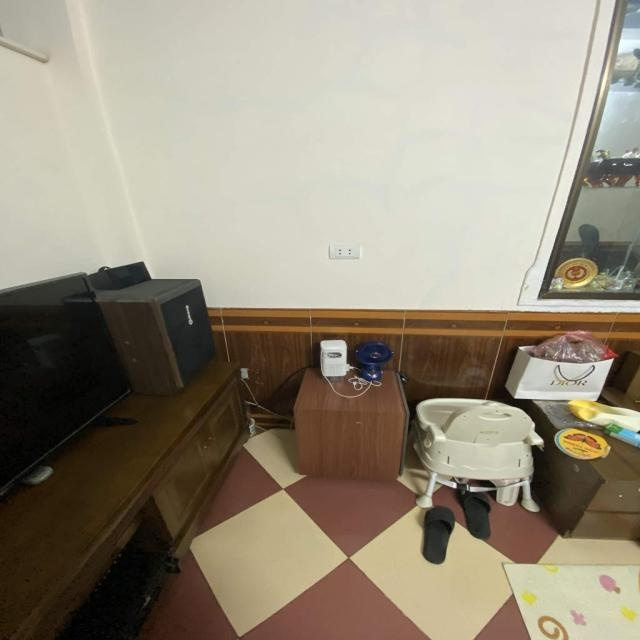outlet: (329, 244, 361, 259)
